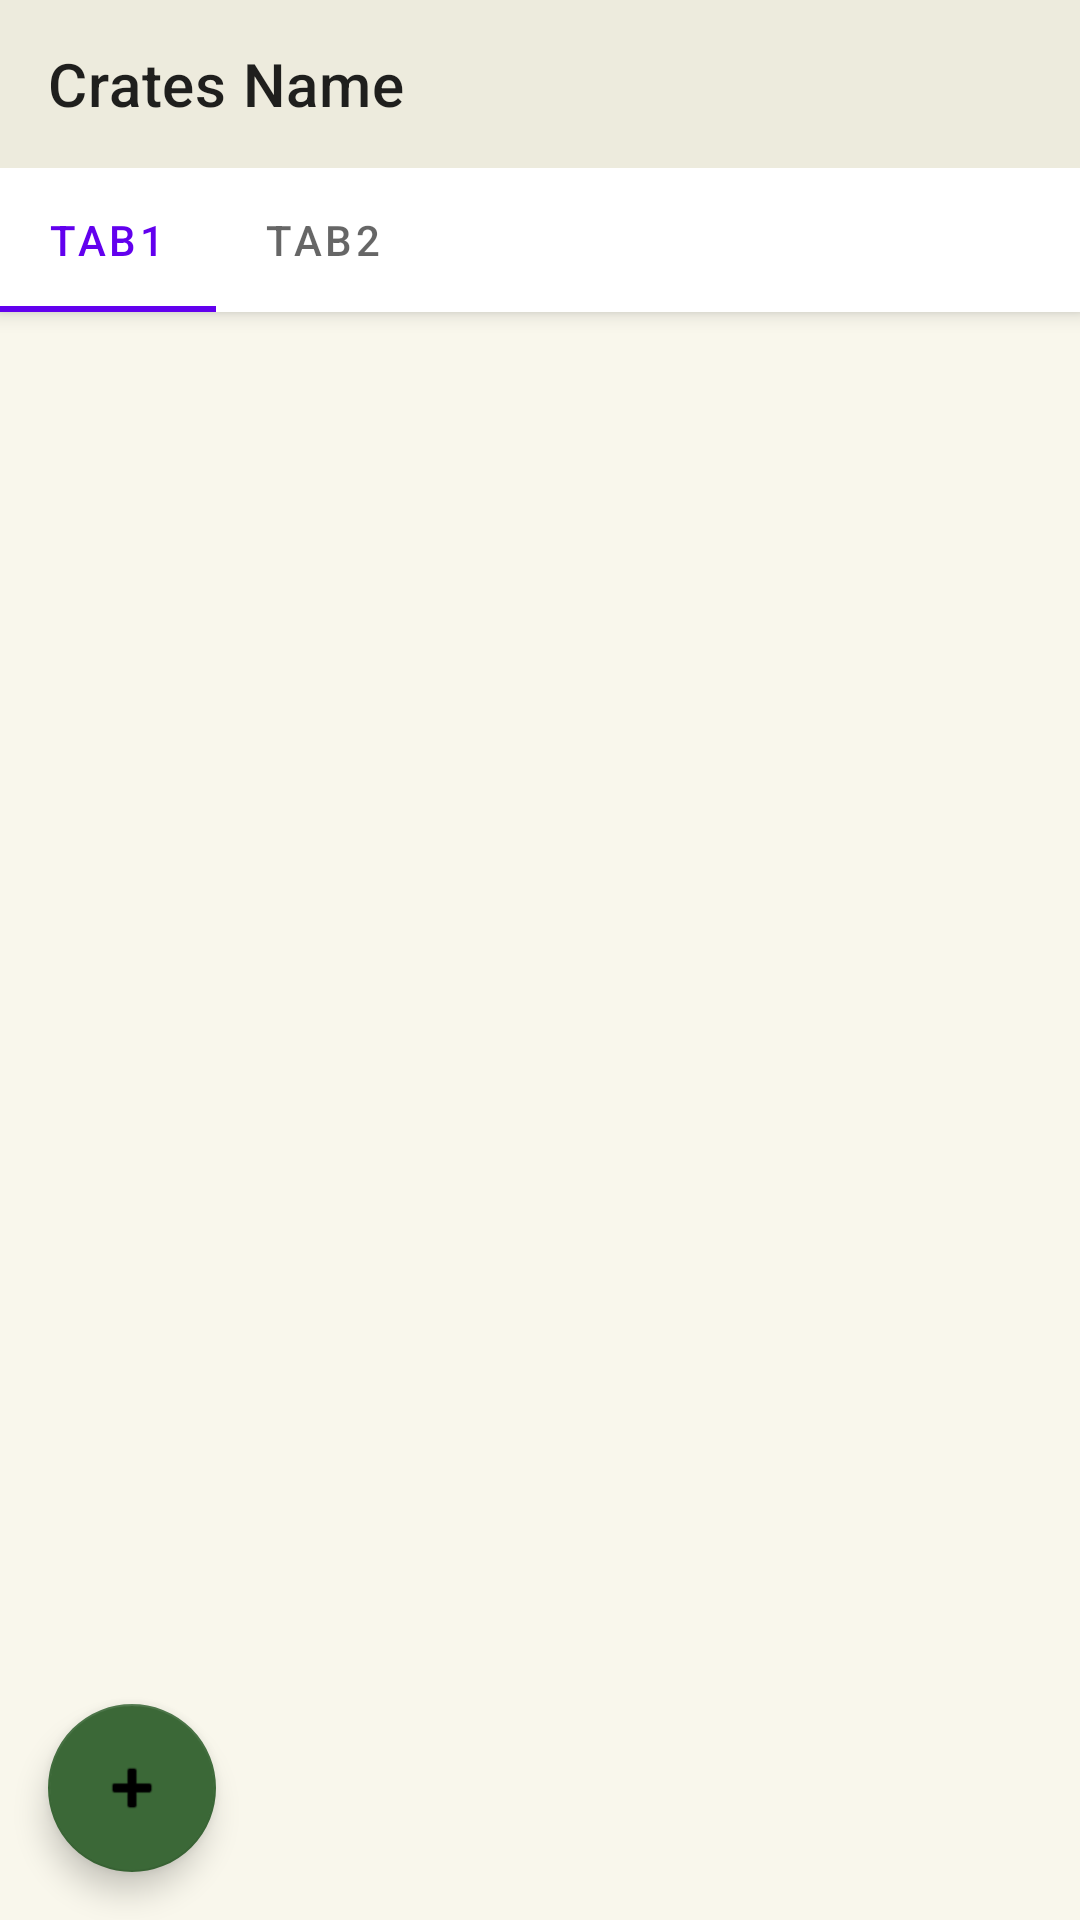

Icons on this 1080 x 1920 Android screen, each with the point to tap as (x=x, y=y):
add: (x=132, y=1788)
